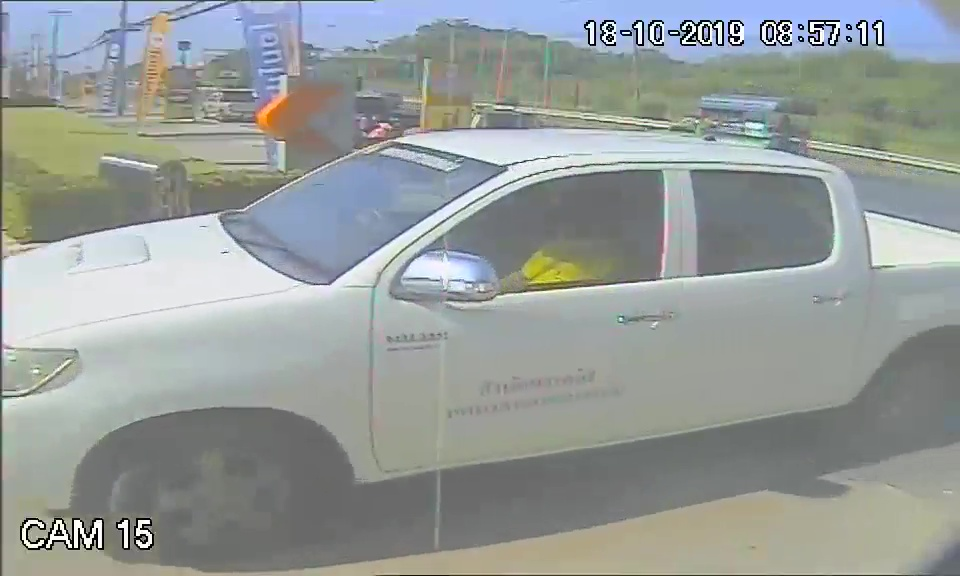pickup: (3, 127, 859, 514)
